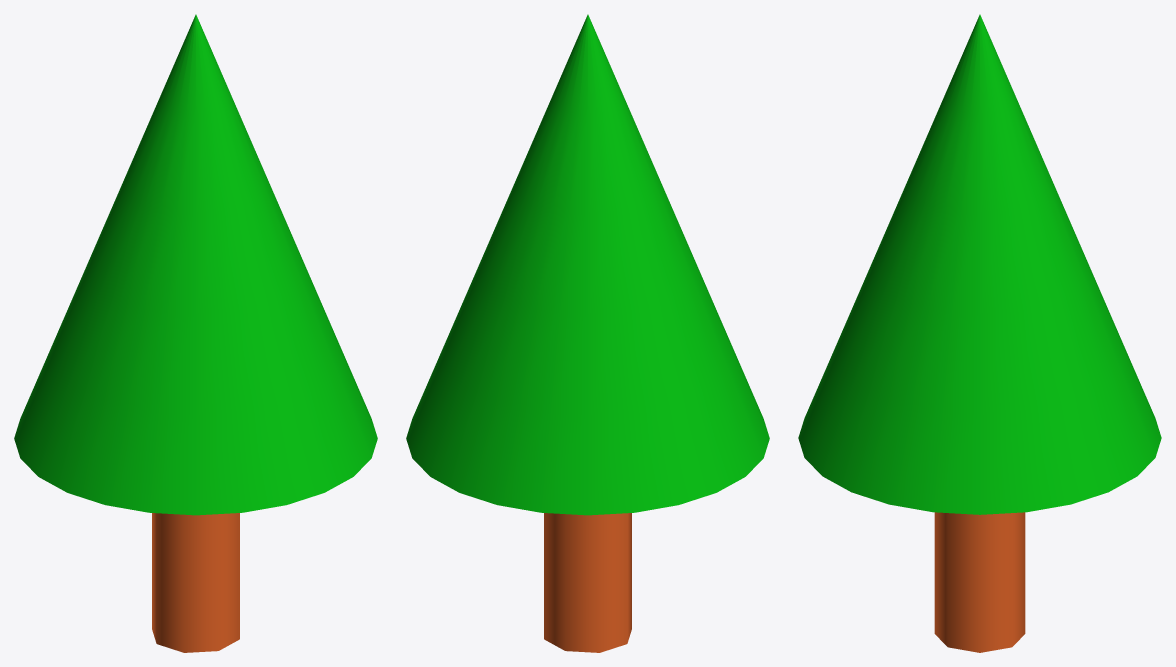
The model's file is tree.FBX.
3 renders of one model, left to right at view 1: azimuth 30°, elevation 25°; view 2: azimuth 150°, elevation 25°; view 3: azimuth 270°, elevation 25°, orthographic.
Parts seen in each view (by area): view 1: Cone001, Cylinder001; view 2: Cone001, Cylinder001; view 3: Cone001, Cylinder001.
Part boxes in pixels (x1,y1,x2,y2): Cone001: (14, 14, 377, 515); Cylinder001: (152, 513, 239, 652); Cone001: (406, 14, 769, 515); Cylinder001: (544, 513, 631, 652); Cone001: (798, 14, 1161, 514); Cylinder001: (934, 512, 1025, 652).
Size of the model in its own units: 4 by 7.53 by 4.
